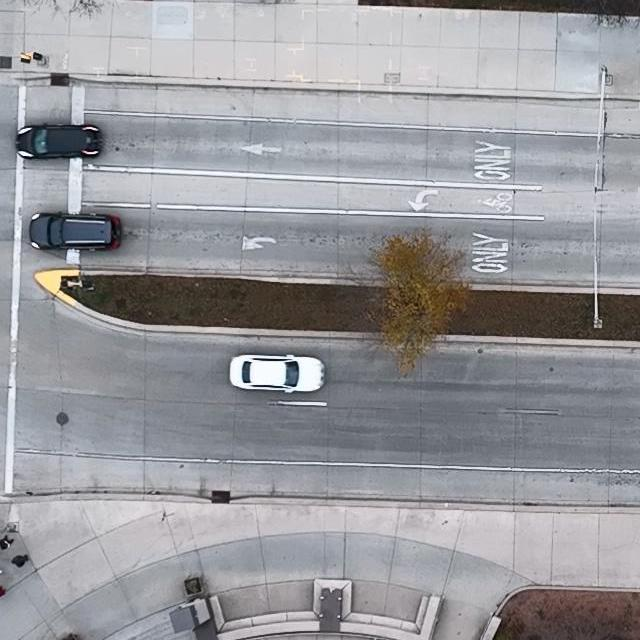car: (229, 354, 326, 394), (30, 211, 121, 250), (15, 122, 102, 159)
